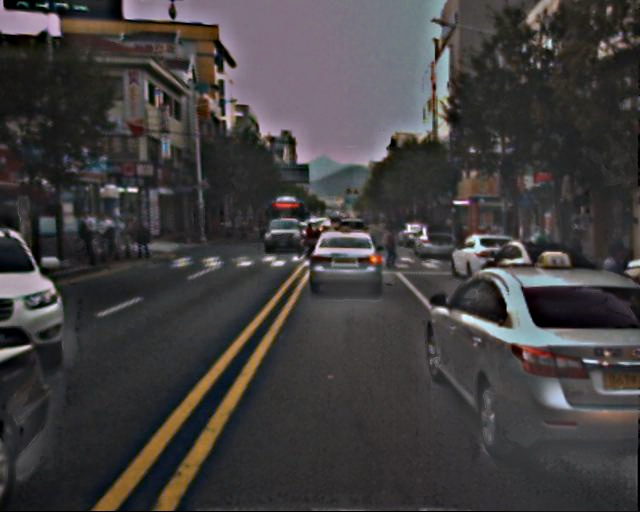person: (594, 239, 637, 343), (79, 214, 147, 259), (567, 223, 589, 276), (383, 229, 400, 271), (300, 221, 316, 261)
